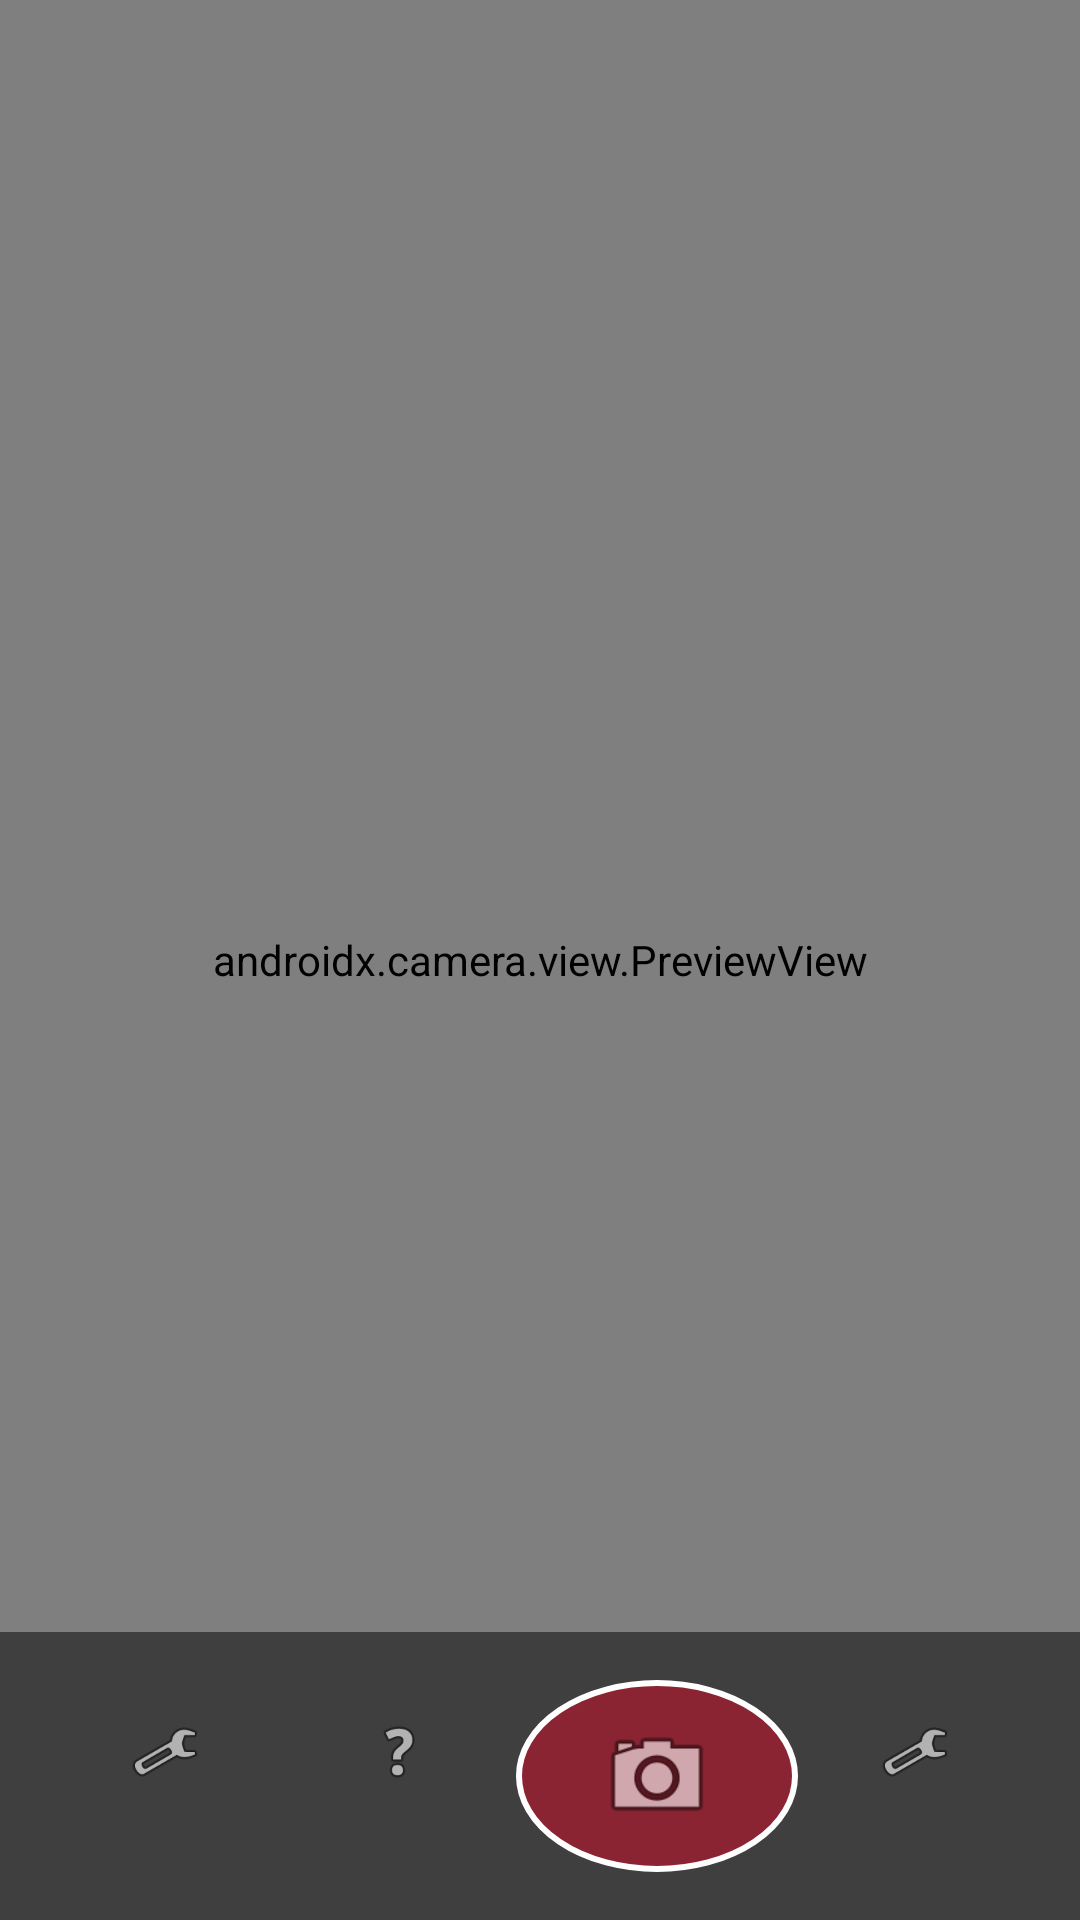

Icon click points for this 1080w x 1920h phone screenshot, format (x,y):
Capture: (657,1776)
